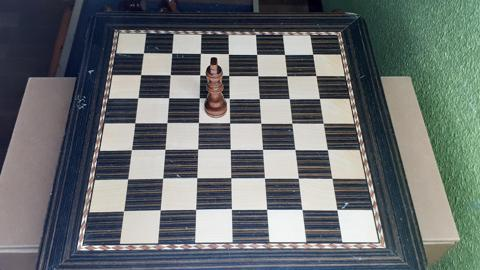xcorner: (155, 206, 165, 216), (193, 174, 202, 184), (226, 48, 235, 58), (314, 71, 323, 81), (140, 47, 149, 56), (137, 69, 146, 78), (134, 92, 143, 101), (130, 117, 139, 126), (127, 144, 136, 153), (123, 174, 132, 183), (119, 206, 128, 215), (169, 47, 178, 56), (167, 69, 176, 78), (165, 92, 174, 101), (163, 117, 172, 126), (161, 145, 170, 154), (158, 174, 167, 183), (197, 48, 206, 57), (197, 70, 206, 79), (196, 93, 205, 102), (195, 118, 204, 127), (194, 145, 203, 154), (192, 207, 201, 216), (226, 70, 235, 79), (227, 93, 236, 102), (227, 118, 236, 127), (227, 145, 236, 154), (228, 175, 237, 184), (228, 207, 237, 216), (254, 49, 263, 58), (256, 71, 265, 80), (257, 94, 266, 103), (259, 119, 268, 128), (261, 146, 270, 155), (262, 175, 271, 184), (264, 207, 273, 216), (283, 50, 292, 59), (285, 71, 294, 80), (288, 94, 297, 103), (290, 119, 299, 128), (293, 146, 302, 155), (297, 175, 306, 184), (300, 207, 309, 216), (311, 50, 320, 59), (318, 95, 327, 104), (322, 119, 331, 128), (326, 146, 335, 155), (331, 175, 340, 184), (336, 207, 345, 216)
